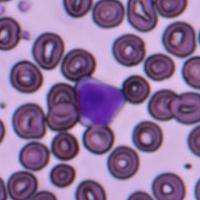L: (76, 75, 127, 127)
